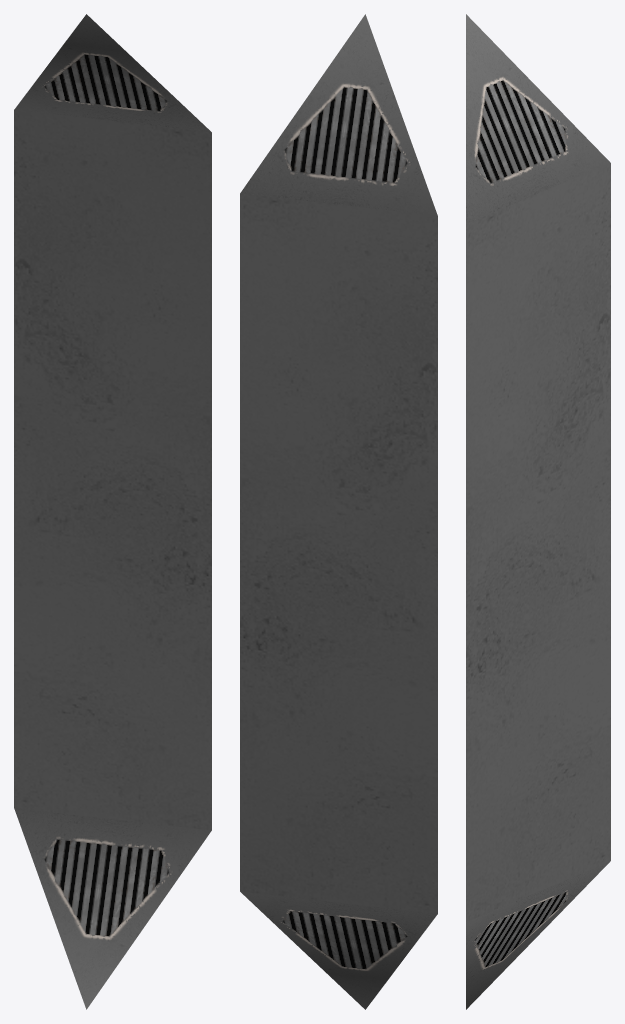
File: Wall_Innercorner_Hall.fbx
The picture shows the model from 3 angles, left to right: view 1: azimuth 30°, elevation 25°; view 2: azimuth 210°, elevation 25°; view 3: azimuth 270°, elevation 25°; orthographic projection.
Parts seen in each view (by area): view 1: Wall_Innercorner_Hallway; view 2: Wall_Innercorner_Hallway; view 3: Wall_Innercorner_Hallway.
Boxes of the visible parts, x1,y1,x2,y2 form: Wall_Innercorner_Hallway: [14, 14, 211, 1009]; Wall_Innercorner_Hallway: [240, 14, 437, 1009]; Wall_Innercorner_Hallway: [466, 14, 610, 1009].
Size of the model in its own units: 37.87 by 287 by 37.87.
Materials: 1 (1 with a texture image).
